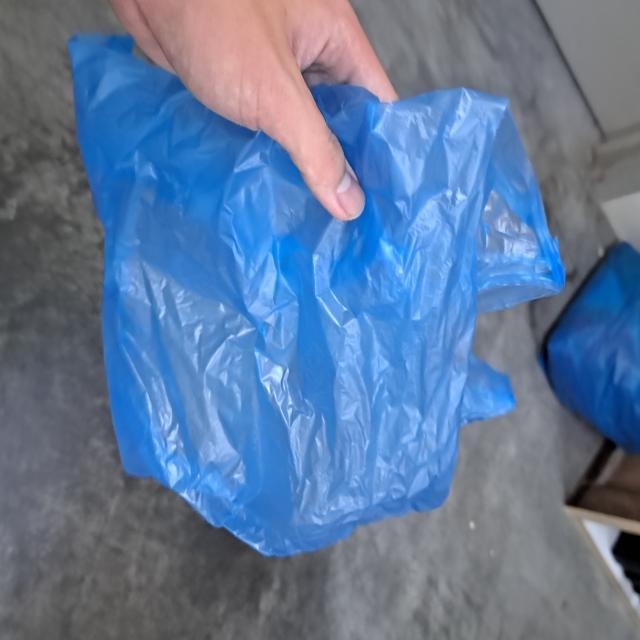plastic bag: (66, 34, 566, 560), (539, 244, 640, 457)
